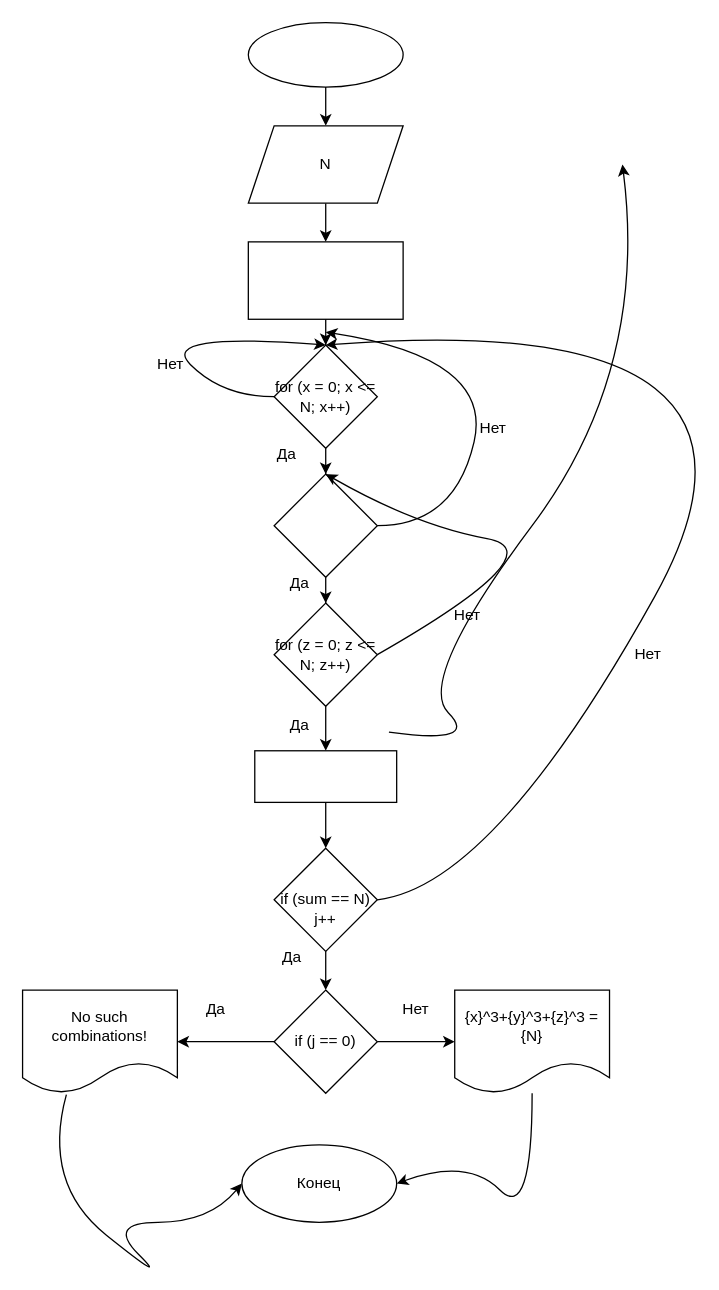
This 719x1290 diagram has some shape labels left out. The shapes that lost their labels are listed below. From the top down, each one's centre as x and y in pixels, then its label:
At pixel 325 54: "Начало".
At pixel 325 280: "x , y , z j = 0".
At pixel 325 525: "for ( y = 0 ; y <= N ; y ++ )".
At pixel 325 775: "sum = x * x * x + y * y * y + z * z * z".
